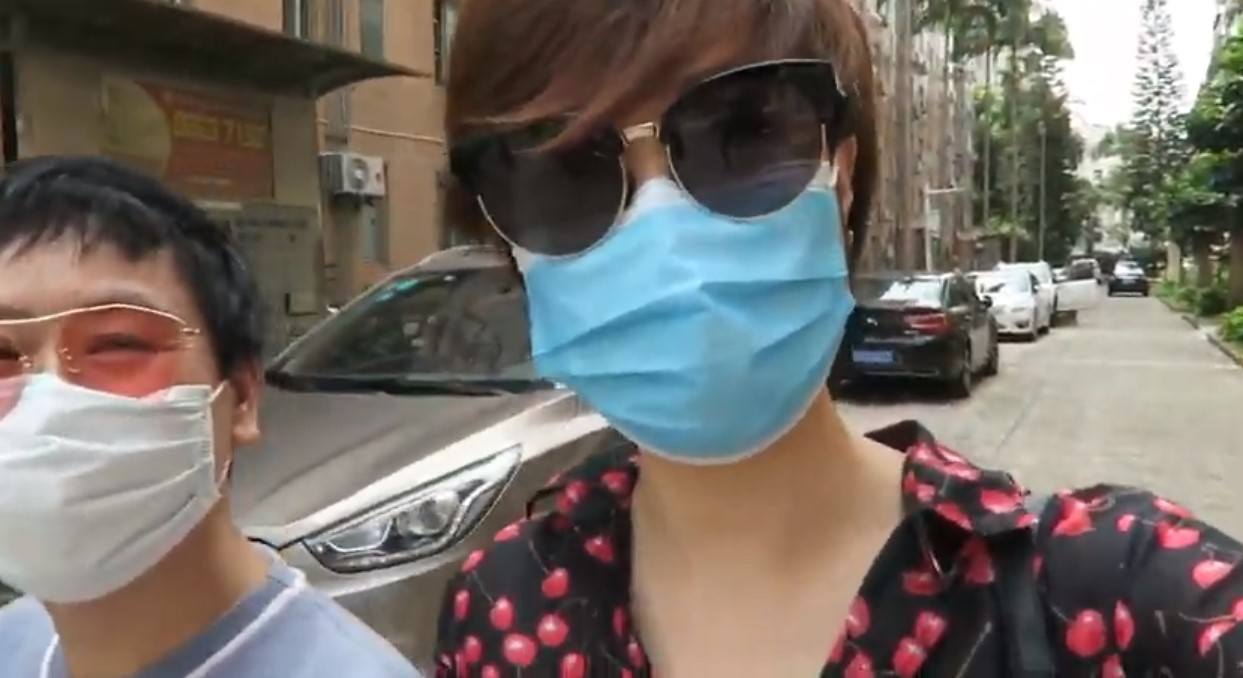face_with_mask: (439, 7, 863, 469), (3, 159, 257, 601)
